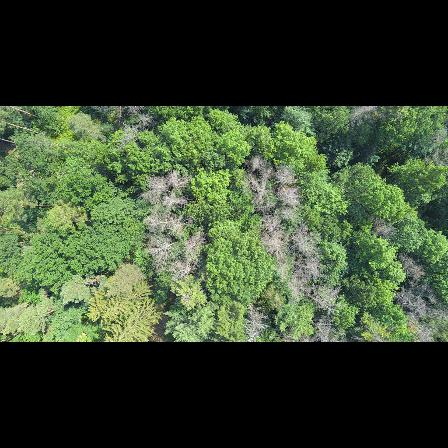Dead: (149, 235, 175, 269), (143, 173, 170, 198), (166, 168, 189, 195), (161, 192, 191, 212), (143, 213, 172, 232), (168, 212, 192, 234)
